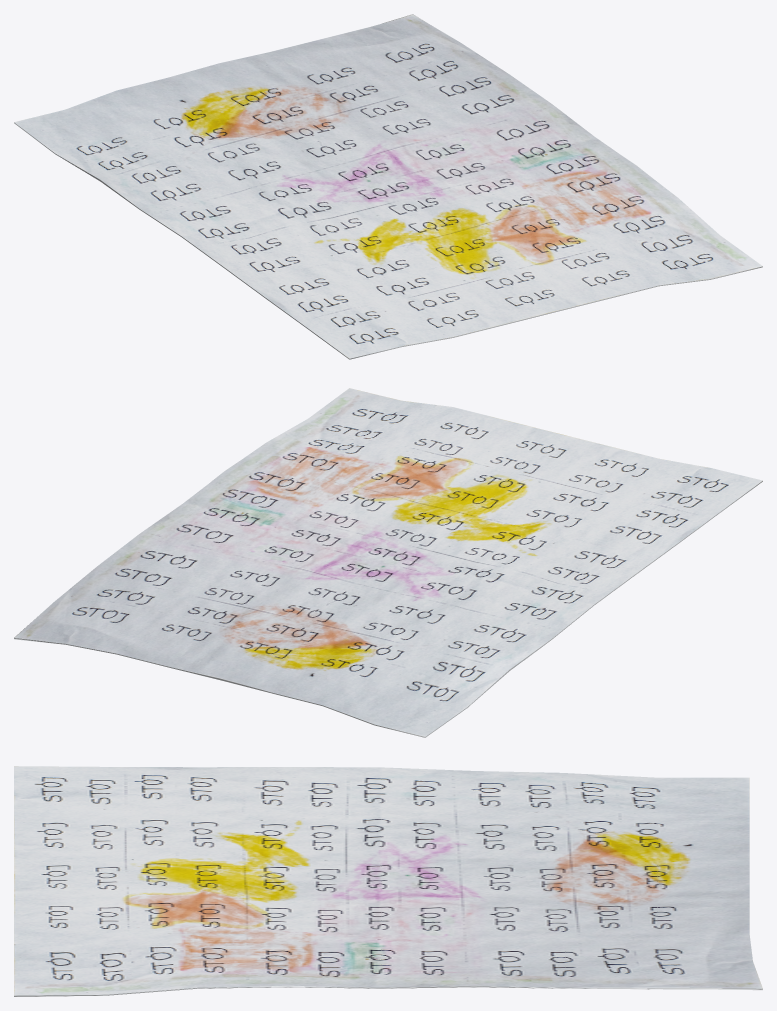
File: hoja_de_pintar.glb
3 views of the same model, one above another, from view 1: azimuth 30°, elevation 25°; view 2: azimuth 150°, elevation 25°; view 3: azimuth 270°, elevation 25° (orthographic). The views are drawn at different scales.
Parts seen in each view (by area): view 1: Cube_0; view 2: Cube_0; view 3: Cube_0.
Boxes of the visible parts, x1=… form: Cube_0: x1=14, y1=14, x2=762, y2=359; Cube_0: x1=14, y1=388, x2=762, y2=737; Cube_0: x1=14, y1=766, x2=762, y2=996.
Size of the model in its own units: 0.4212 by 0.0117 by 0.6048.
1 material, 1 textured.
